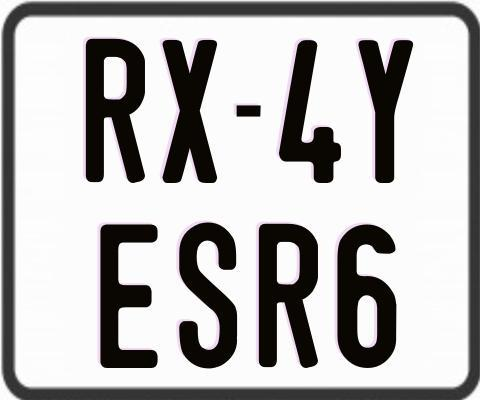4: (278, 40, 344, 183)
6: (336, 224, 395, 369)
E: (100, 221, 161, 367)
R: (256, 222, 321, 366), (85, 38, 149, 184)
S: (176, 221, 238, 369)
X: (162, 38, 218, 181)
Y: (357, 38, 412, 187)
